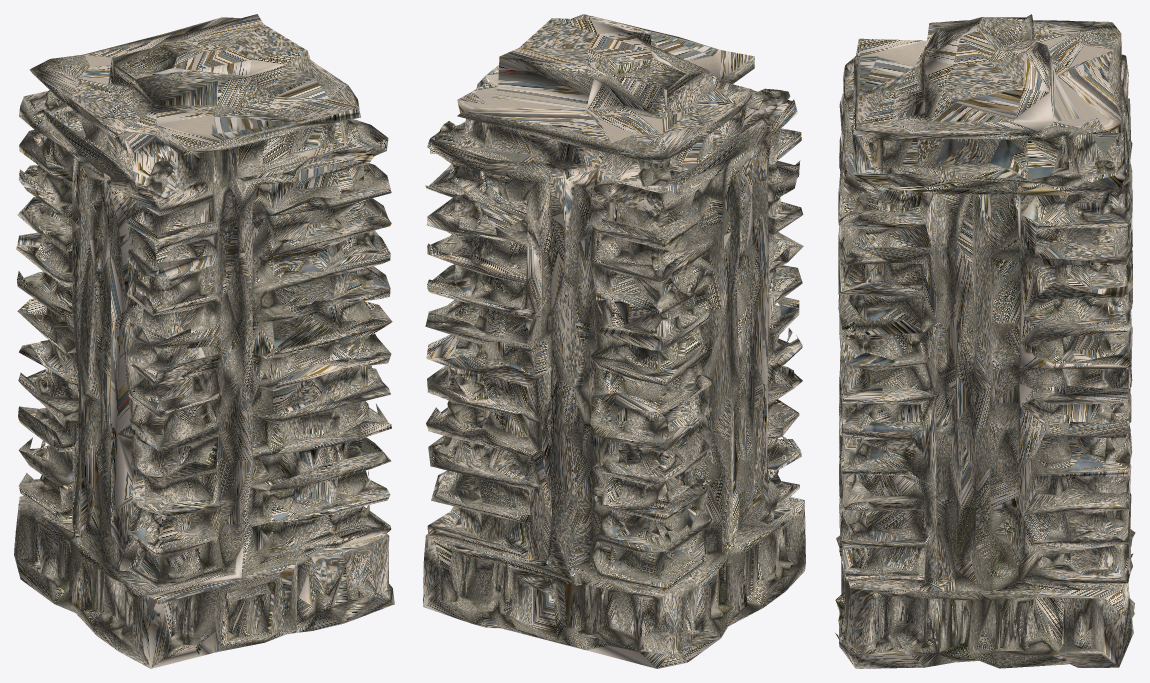
The model's file is tower_residential.glb.
3 views of the same model, side by side, from view 1: azimuth 30°, elevation 25°; view 2: azimuth 150°, elevation 25°; view 3: azimuth 270°, elevation 25° (orthographic). The views are drawn at different scales.
Parts seen in each view (by area): view 1: Mesh_0; view 2: Mesh_0; view 3: Mesh_0.
Boxes of the visible parts, left/top/right/bottom form: Mesh_0: left=14, top=14, right=394, bottom=668; Mesh_0: left=423, top=14, right=805, bottom=668; Mesh_0: left=835, top=14, right=1135, bottom=668.
Size of the model in its own units: 46.28 by 89.98 by 44.23.
1 material, 1 textured.
